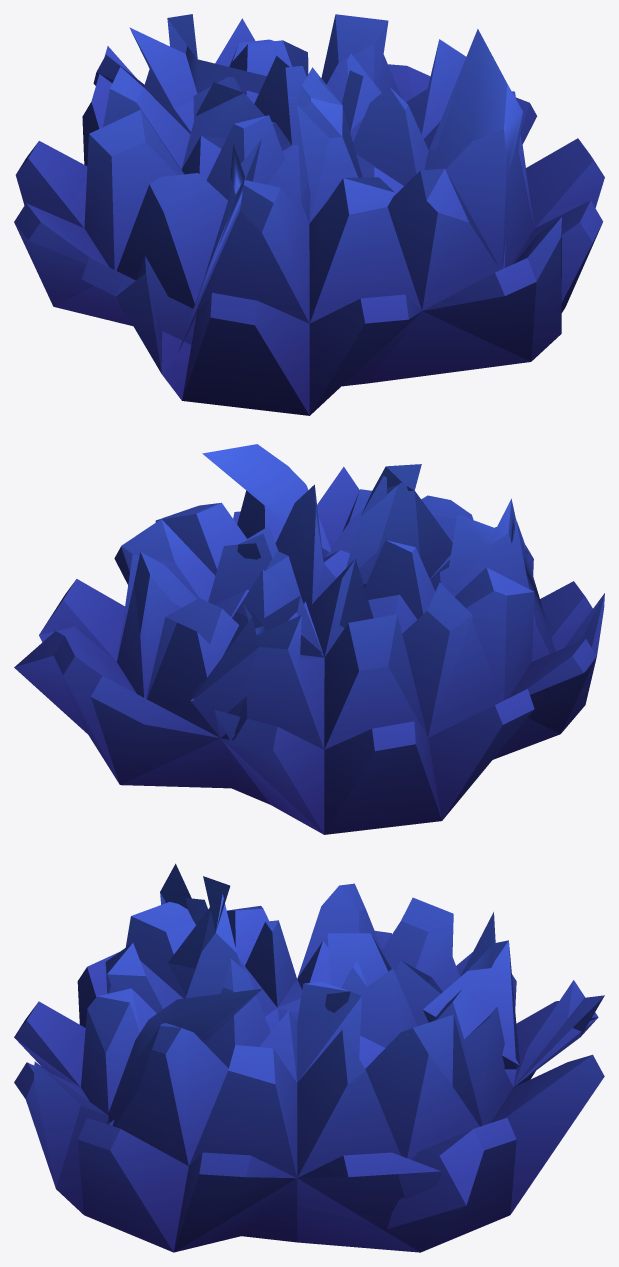
File: anemone_near1.fbx
The picture shows the model from 3 angles, top to bottom: view 1: azimuth 30°, elevation 25°; view 2: azimuth 150°, elevation 25°; view 3: azimuth 270°, elevation 25°; orthographic projection. The views are drawn at different scales.
Parts seen in each view (by area): view 1: anemone_near1; view 2: anemone_near1; view 3: anemone_near1.
Part boxes in pixels (<box>): anemone_near1: <box>14,14,604,415</box>; anemone_near1: <box>14,444,604,834</box>; anemone_near1: <box>14,863,604,1252</box>.
Size of the model in its own units: 0.0061 by 0.00351 by 0.00638.
1 material, 1 textured.
